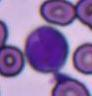L: (24, 26, 68, 74)
